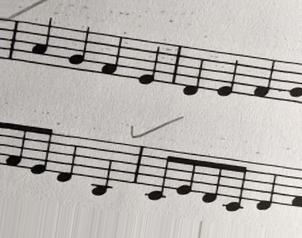note: (97, 29, 126, 84), (134, 37, 165, 85), (65, 22, 92, 76), (181, 46, 208, 97), (29, 16, 55, 68), (214, 51, 242, 97), (251, 54, 278, 101), (253, 163, 279, 211), (55, 135, 79, 184)
